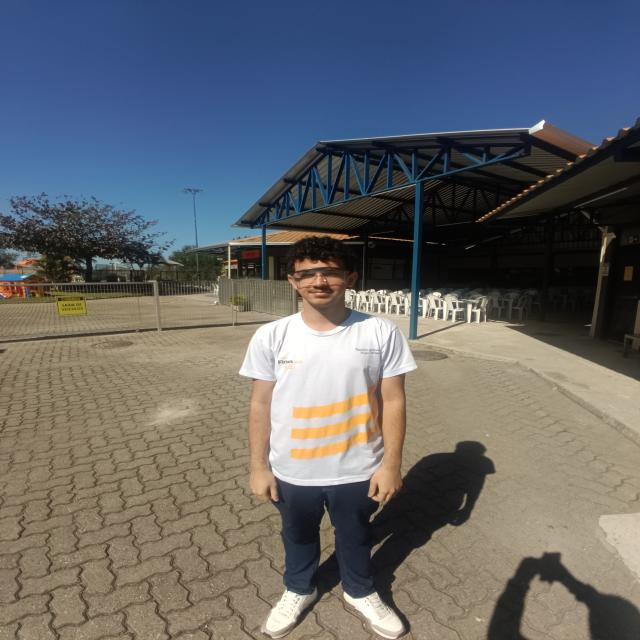oculos-epi: (293, 267, 346, 286)
